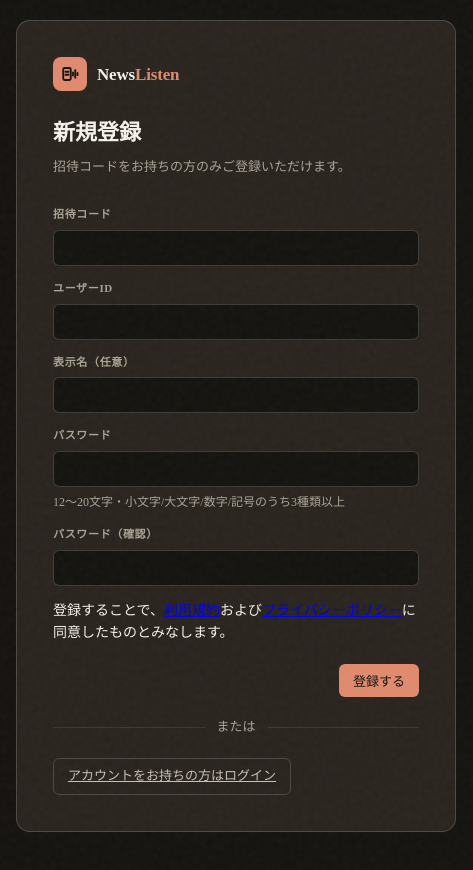
Test: SignupPage — server error mapping › maps 400 to the expected message
This screenshot has width=473, height=870.
Type "newbie" into the field labelled "ユーザーID" at (236, 322), box 53,304 -> 419,340
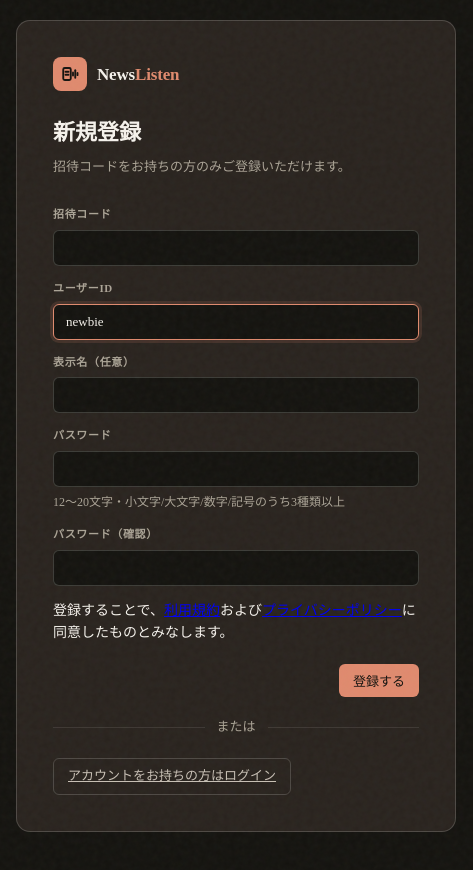
Type "Sup3r-Secret!!" into the password field labelled "パスワード" at (236, 469), box 53,451 -> 419,487
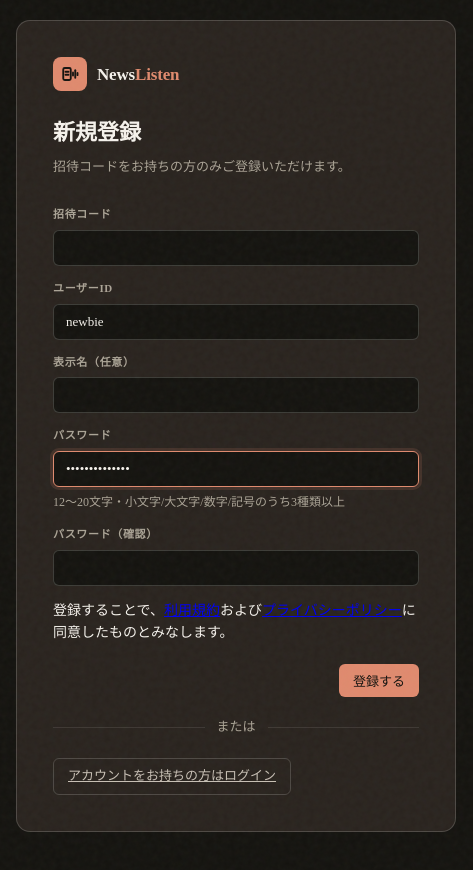
Type "Sup3r-Secret!!" into the password field labelled "パスワード（確認）" at (236, 568), box 53,550 -> 419,586
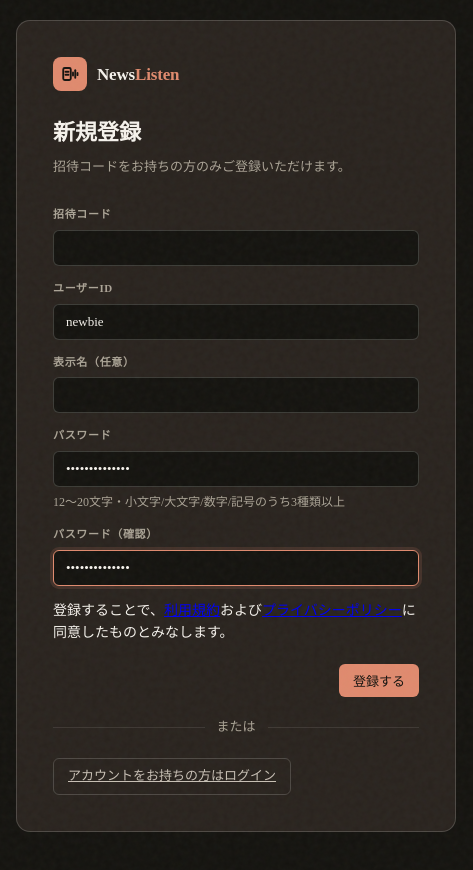
Click the button "登録する" at (379, 681), box 339,664 -> 419,697
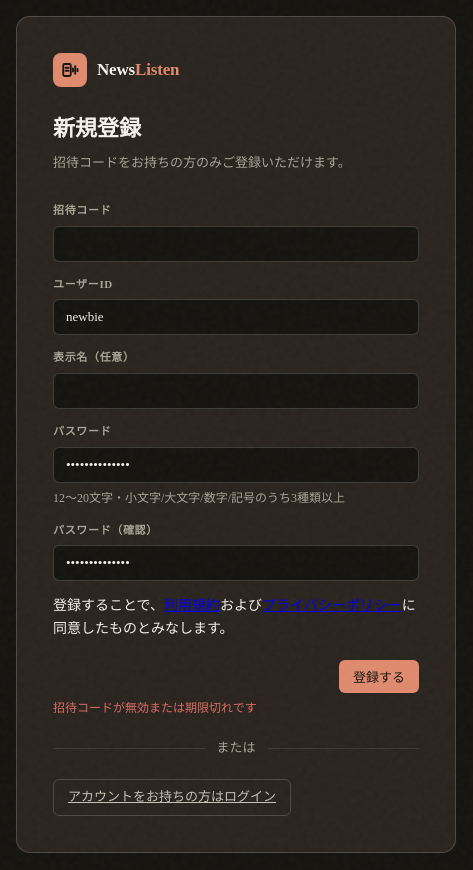
Check: the text "招待コードが無効または期限切れです" is shown, box 53,701 -> 257,715
